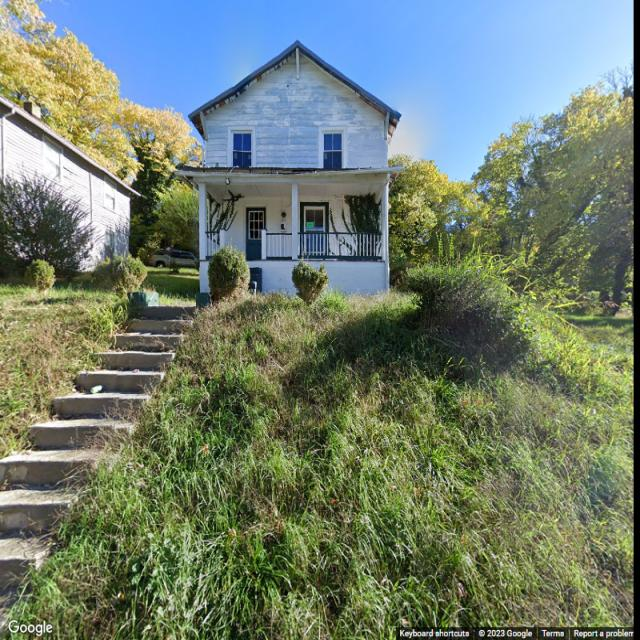House: (175, 37, 405, 296), (0, 92, 142, 280)
